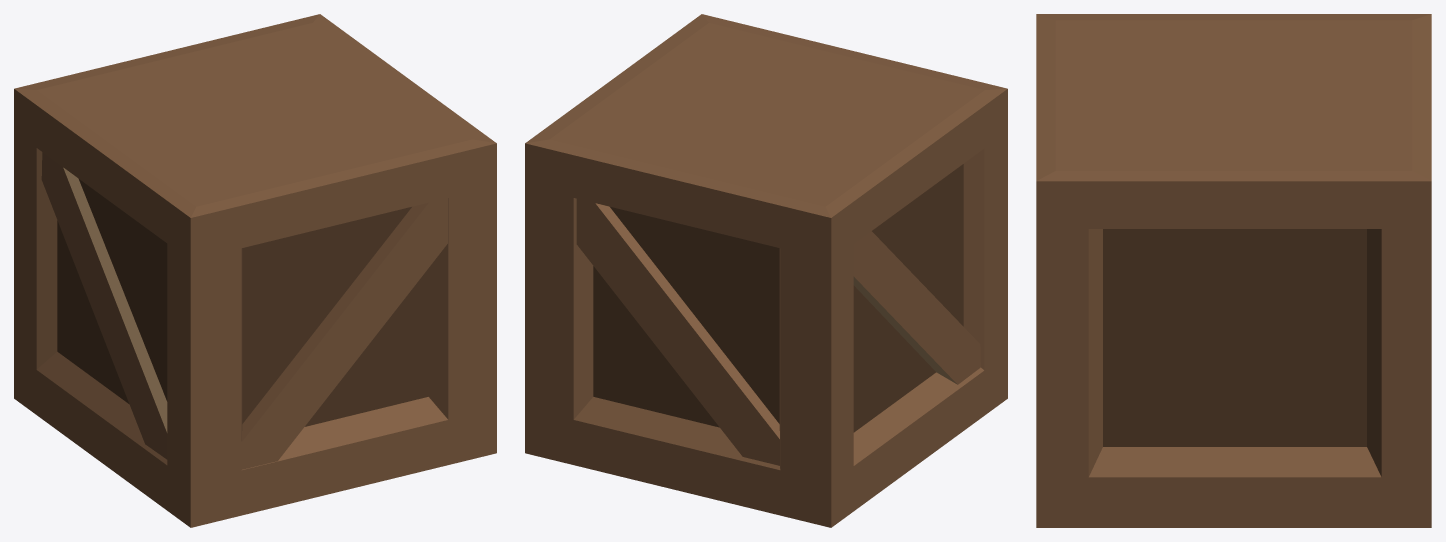
3 views of the same model, side by side, from view 1: azimuth 30°, elevation 25°; view 2: azimuth 150°, elevation 25°; view 3: azimuth 270°, elevation 25° (orthographic). The views are drawn at different scales.
Parts seen in each view (by area): view 1: pCube39; view 2: pCube39; view 3: pCube39.
Boxes of the visible parts, x1,y1,x2,y2 form: pCube39: [14, 14, 496, 527]; pCube39: [525, 14, 1007, 527]; pCube39: [1036, 14, 1431, 527].
Bounding box in the file's own units: 0.8331 × 0.8097 × 0.8331.
